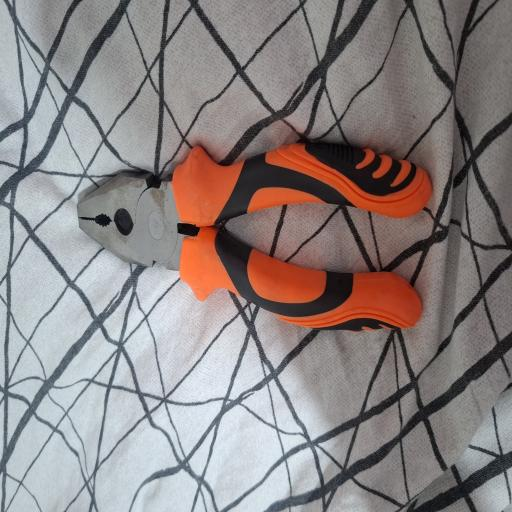alicate: (75, 139, 437, 333)
